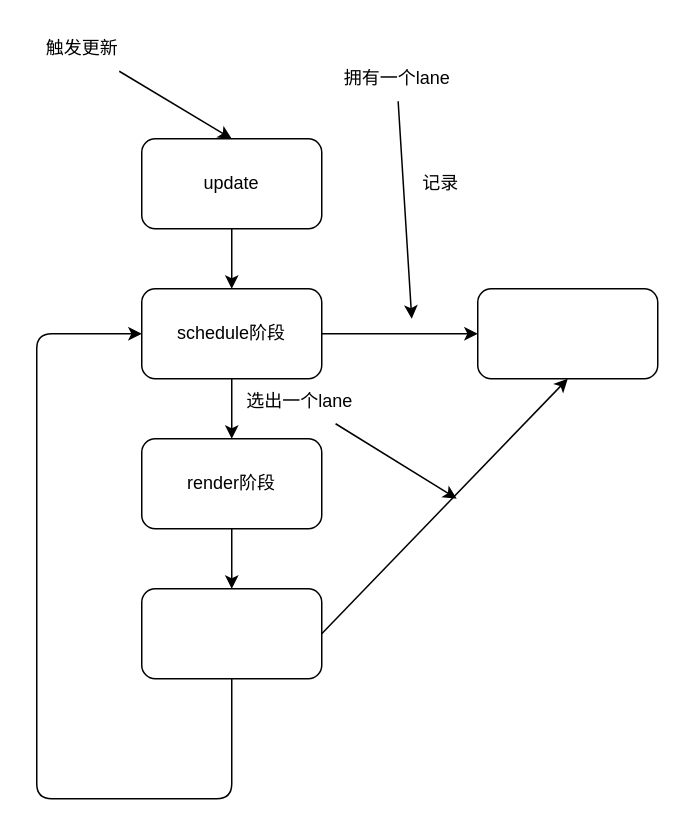
The diagram is 684 pixels wide and 837 high, and some of its shapes have lost their labels. The shapes that lost their labels are listed below. From the top down, each one's centre as x and y in pixels, then its label:
point (567, 333): FiberRootNode
point (231, 633): commit阶段
